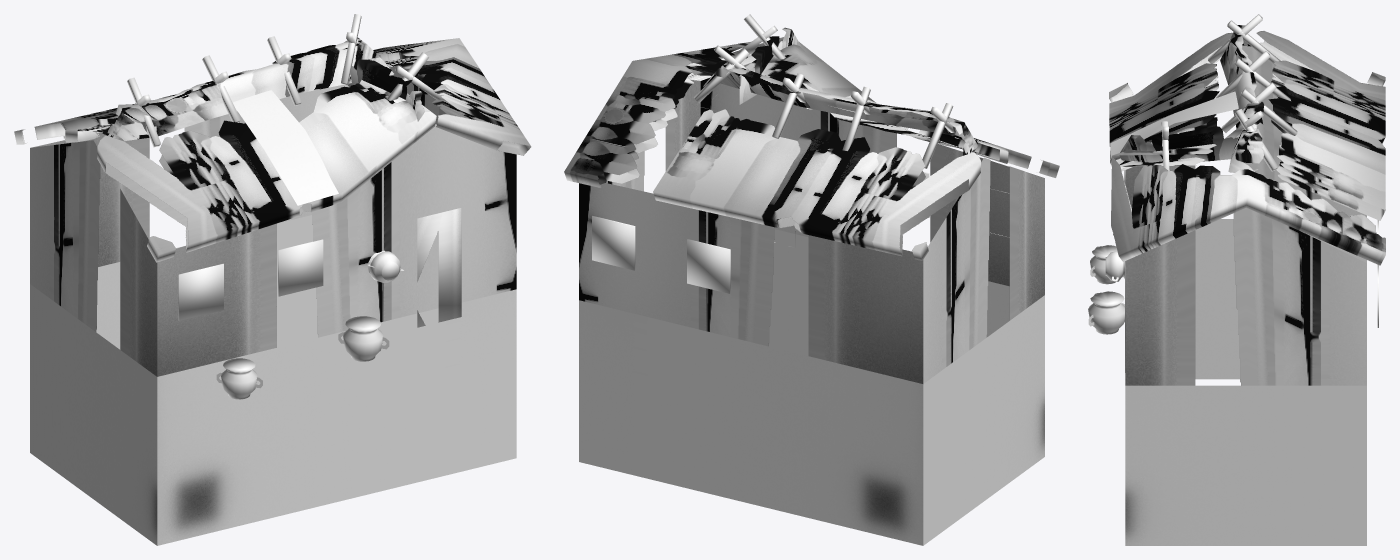
File: mex_house_b.dae
3 views of the same model, side by side, from view 1: azimuth 30°, elevation 25°; view 2: azimuth 150°, elevation 25°; view 3: azimuth 270°, elevation 25° (orthographic). The views are drawn at different scales.
Parts seen in each view (by area): view 1: HouseB; view 2: HouseB; view 3: HouseB.
Part boxes in pixels (x1,y1,x2,y2): HouseB: (14, 14, 531, 545); HouseB: (564, 14, 1059, 545); HouseB: (1088, 14, 1385, 545).
Size of the model in its own units: 16.98 by 12.22 by 17.79.
